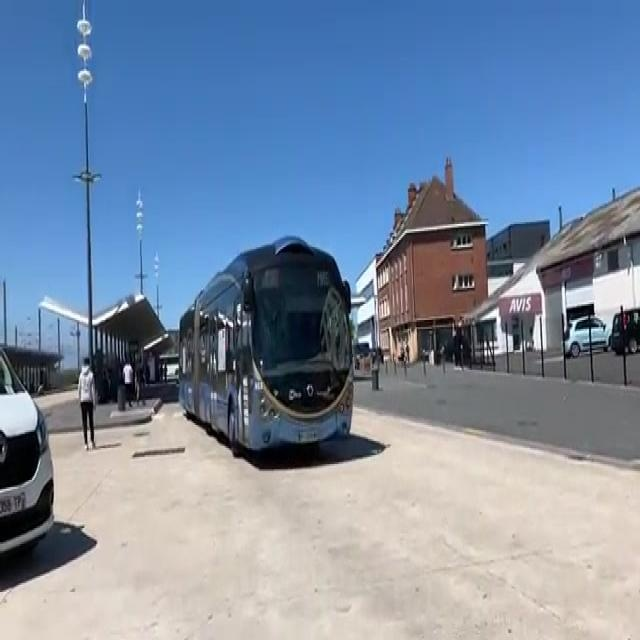Bus: (178, 230, 356, 454)
